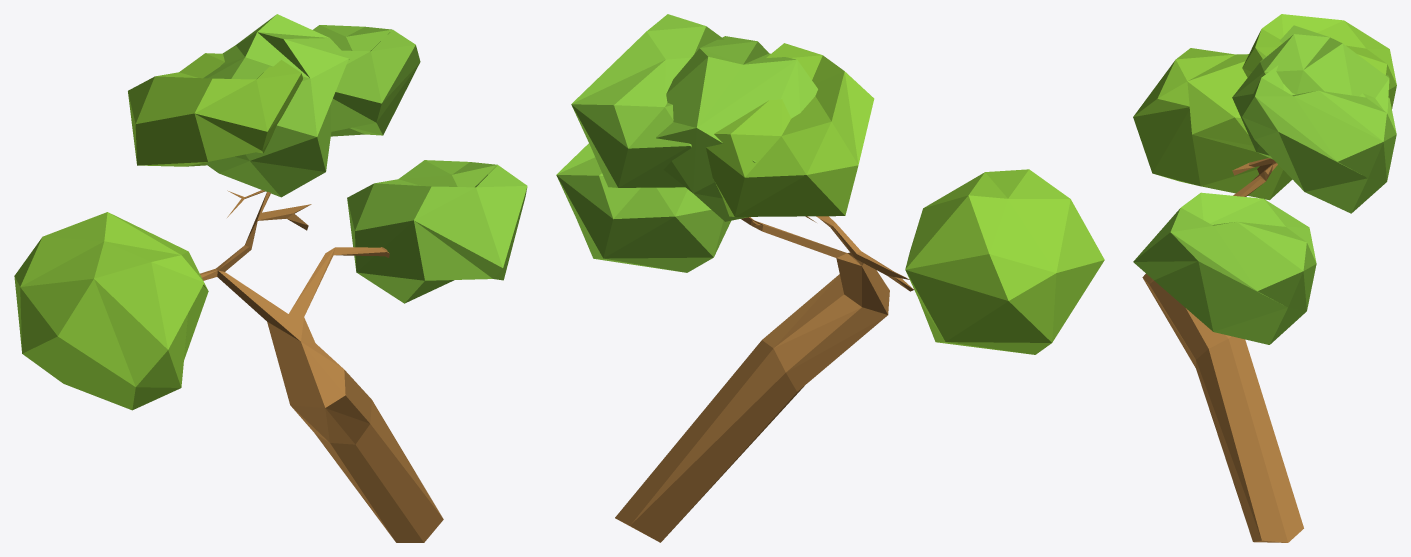
File: tree1.fbx
The picture shows the model from 3 angles, left to right: view 1: azimuth 30°, elevation 25°; view 2: azimuth 150°, elevation 25°; view 3: azimuth 270°, elevation 25°; orthographic projection. The views are drawn at different scales.
Parts seen in each view (by area): view 1: Icosphere, Icosphere.001, Cube, Icosphere.004, Icosphere.002, Icosphere.003; view 2: Icosphere, Cube, Icosphere.004, Icosphere.003, Icosphere.002, Icosphere.001; view 3: Icosphere.001, Cube, Icosphere.003, Icosphere, Icosphere.002, Icosphere.004.
Part boxes in pixels (bbox=[...]): Icosphere: bbox=[14, 212, 208, 410]; Icosphere.001: bbox=[347, 160, 527, 303]; Cube: bbox=[200, 190, 443, 542]; Icosphere.004: bbox=[128, 53, 302, 166]; Icosphere.002: bbox=[203, 14, 349, 197]; Icosphere.003: bbox=[313, 25, 420, 136]; Icosphere: bbox=[905, 169, 1104, 354]; Cube: bbox=[615, 216, 913, 542]; Icosphere.004: bbox=[706, 43, 874, 216]; Icosphere.003: bbox=[571, 14, 724, 187]; Icosphere.002: bbox=[656, 36, 817, 221]; Icosphere.001: bbox=[556, 143, 730, 272]; Icosphere.001: bbox=[1133, 192, 1316, 344]; Cube: bbox=[1142, 158, 1303, 542]; Icosphere.003: bbox=[1242, 65, 1396, 213]; Icosphere: bbox=[1133, 48, 1292, 200]; Icosphere.002: bbox=[1232, 25, 1389, 159]; Icosphere.004: bbox=[1242, 14, 1396, 108].
Bounding box in the file's own units: 444 × 454 × 234.
